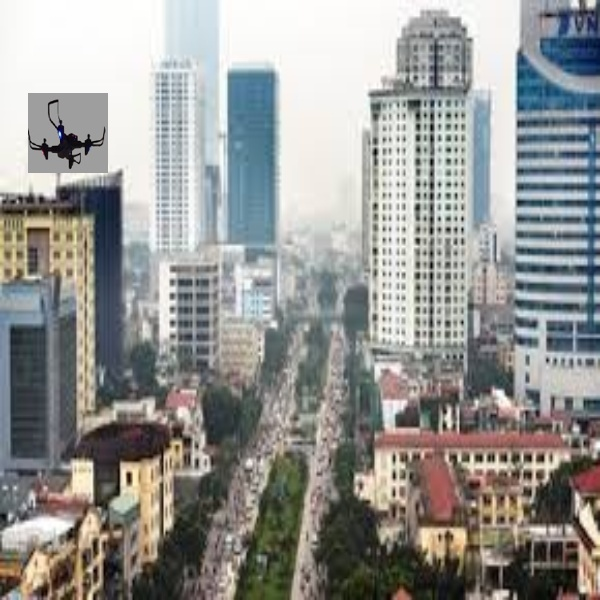drone: (27, 89, 110, 170)
